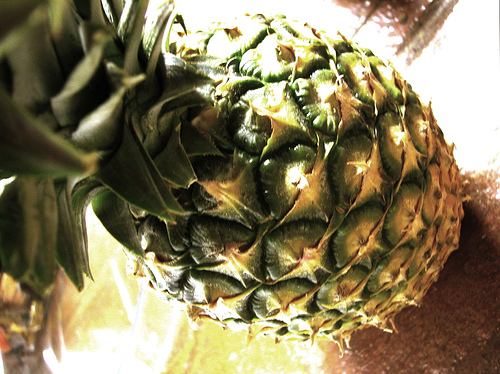pineapple: (0, 0, 469, 354)
